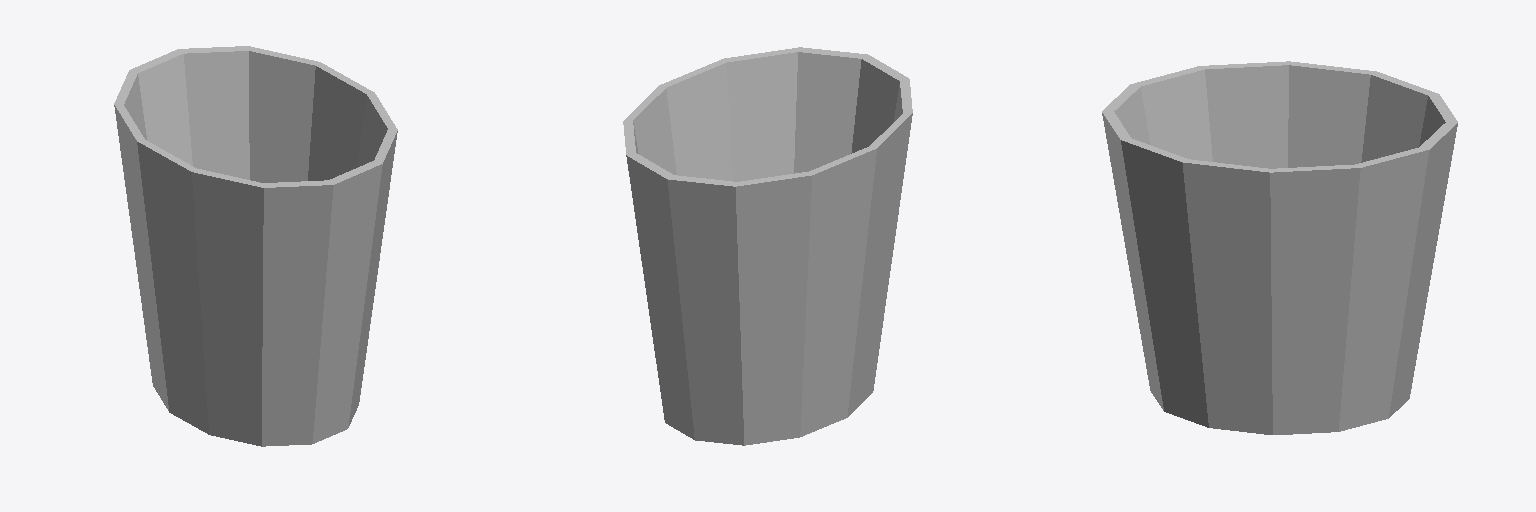
File: Trashcan.obj
3 views of the same model, side by side, from view 1: azimuth 30°, elevation 25°; view 2: azimuth 150°, elevation 25°; view 3: azimuth 270°, elevation 25° (orthographic).
Visible parts, largest first — view 1: Trashcan; view 2: Trashcan; view 3: Trashcan.
Boxes of the visible parts, <box> form: Trashcan: <box>114,46,397,446</box>; Trashcan: <box>623,47,912,445</box>; Trashcan: <box>1102,61,1457,434</box>.
Size of the model in its own units: 1.02 by 1.19 by 1.38.